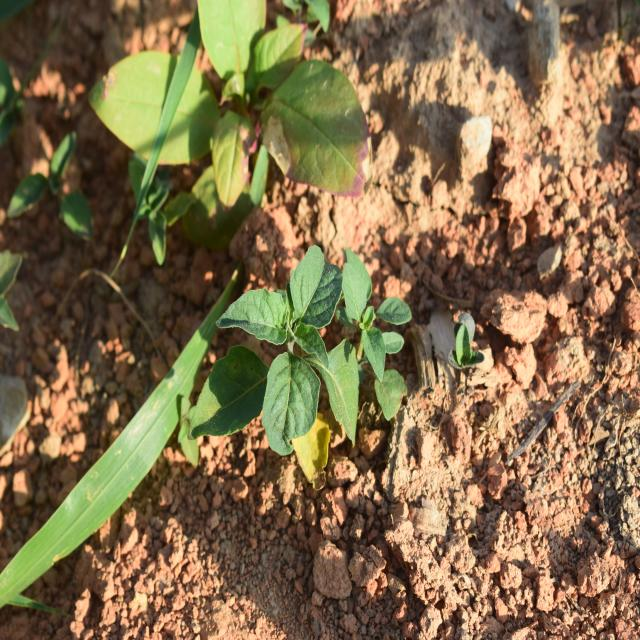Black_nightshade: (219, 226, 416, 472)
